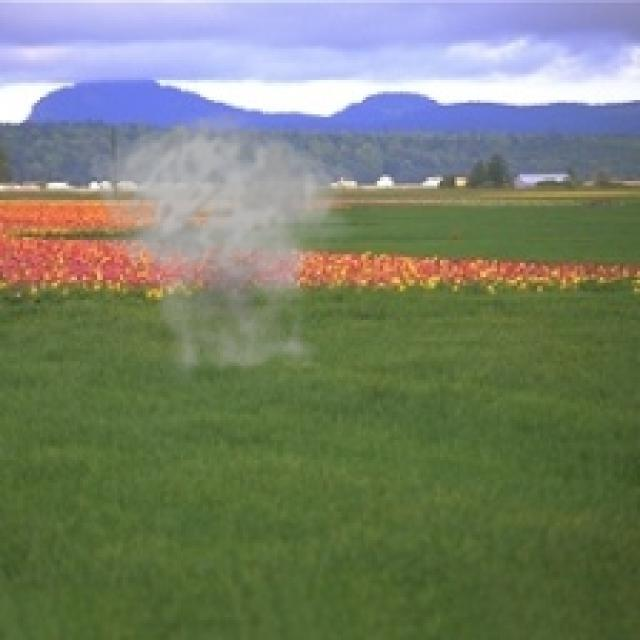Smoke: (86, 108, 366, 392)
